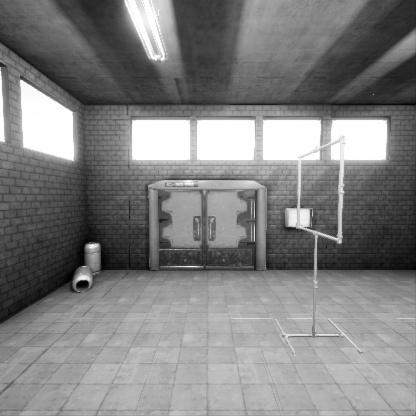gate: (297, 177, 346, 284)
